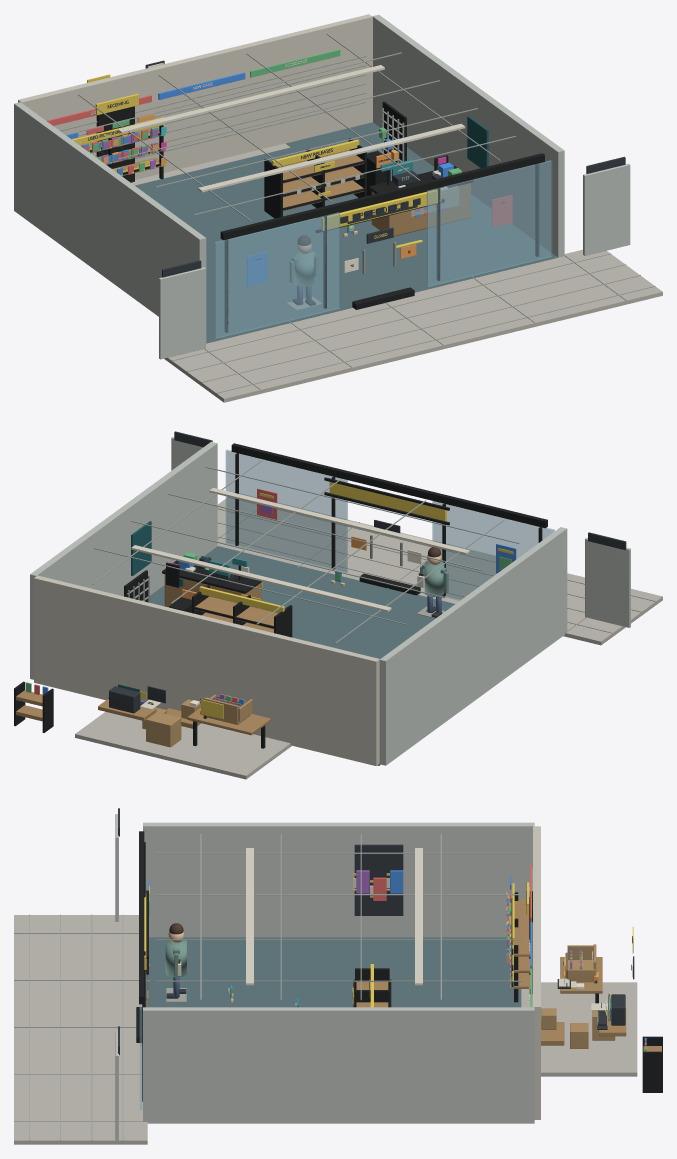
File: game_store_visual_benchmark_full.glb
3 renders of one model, top to bottom at view 1: azimuth 30°, elevation 25°; view 2: azimuth 150°, elevation 25°; view 3: azimuth 270°, elevation 25°, orthographic. The views are drawn at different scales.
Visible parts, largest first — view 1: store_low_pile_carpet_floor, mall_concourse_tile_floor, rear_slatwall_game_wall, left_wall_light_retail, right_wall_light_retail, storefront_glass_right_bay, storefront_glass_left_bay, right_neighbor_lease_hint, left_neighbor_lease_hint, storefront_upper_frame, checkout_counter_laminate_base, ceiling_light_bar_front (+26 smaller); view 2: rear_slatwall_game_wall, left_wall_light_retail, mall_concourse_tile_floor, right_wall_light_retail, store_low_pile_carpet_floor, storefront_glass_right_bay, backroom_sealed_floor, storefront_glass_left_bay, left_neighbor_lease_hint, storefront_upper_frame, ceiling_light_bar_front, ceiling_light_bar_rear (+16 smaller); view 3: right_wall_light_retail, left_wall_light_retail, mall_concourse_tile_floor, store_low_pile_carpet_floor, backroom_sealed_floor, left_wall_poster_column_backer, rear_slatwall_game_wall, ceiling_light_bar_front, ceiling_light_bar_rear, storefront_upper_frame, backroom_backstock_post_right, used_wall_shelf_wood_level_3 (+6 smaller).
Part boxes in pixels (x1,y1,x2,y2): store_low_pile_carpet_floor: (135,122,557,343); mall_concourse_tile_floor: (164,249,662,402); rear_slatwall_game_wall: (18,14,372,179); left_wall_light_retail: (14,102,206,343); right_wall_light_retail: (372,14,564,257); storefront_glass_right_bay: (426,160,552,286); storefront_glass_left_bay: (214,212,339,338); right_neighbor_lease_hint: (583,163,630,255); left_neighbor_lease_hint: (159,267,205,359); storefront_upper_frame: (220,153,544,240); checkout_counter_laminate_base: (371,183,470,236); ceiling_light_bar_front: (198,123,465,192); rear_slatwall_game_wall: (34,575,379,765); left_wall_light_retail: (379,527,567,765); mall_concourse_tile_floor: (217,492,662,645); right_wall_light_retail: (30,441,217,679); store_low_pile_carpet_floor: (149,546,454,765); storefront_glass_right_bay: (225,449,347,572); backroom_sealed_floor: (75,711,291,779); storefront_glass_left_bay: (432,501,554,600); left_neighbor_lease_hint: (585,538,630,627); storefront_upper_frame: (231,443,547,528); ceiling_light_bar_front: (209,487,469,554); ceiling_light_bar_rear: (131,545,391,611); right_wall_light_retail: (143,1007,534,1123); left_wall_light_retail: (143,822,534,937); mall_concourse_tile_floor: (14,915,147,1144); store_low_pile_carpet_floor: (145,937,521,1007); backroom_sealed_floor: (521,982,637,1076); left_wall_poster_column_backer: (354,844,403,915); rear_slatwall_game_wall: (533,826,540,1119); ceiling_light_bar_front: (246,848,253,985); ceiling_light_bar_rear: (415,848,422,985); storefront_upper_frame: (139,831,144,1004); backroom_backstock_post_right: (642,1051,662,1092); used_wall_shelf_wood_level_3: (514,899,530,956).
Size of the model in its own units: 12.85 by 2.92 by 14.58.
